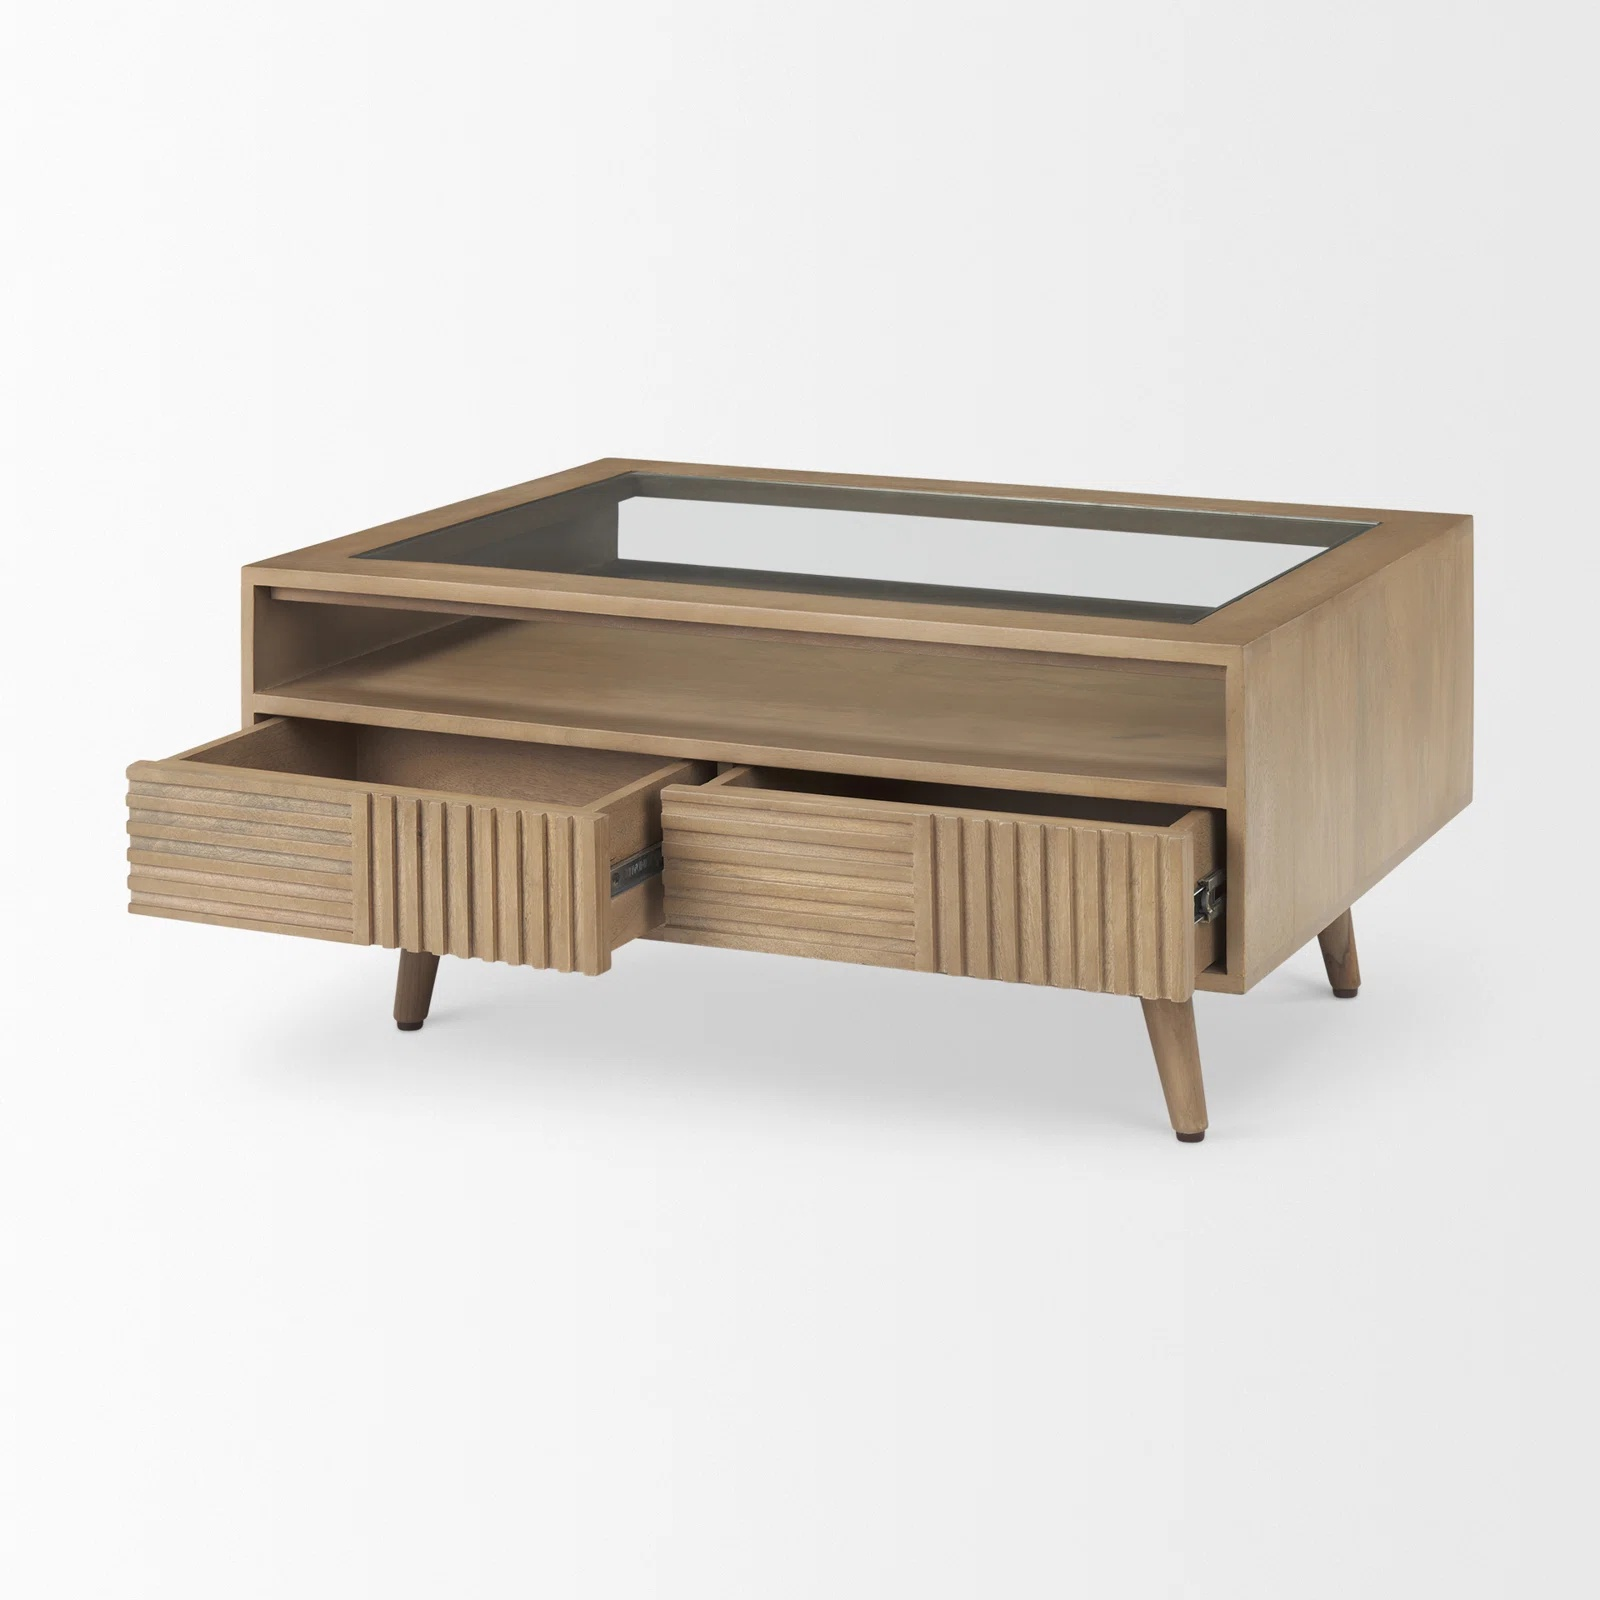obstacle: (127, 460, 1471, 1140)
